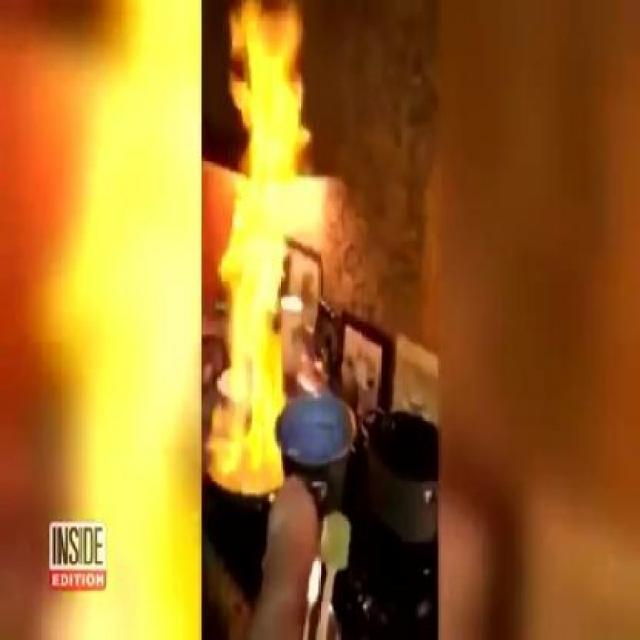fire: (222, 29, 306, 416)
